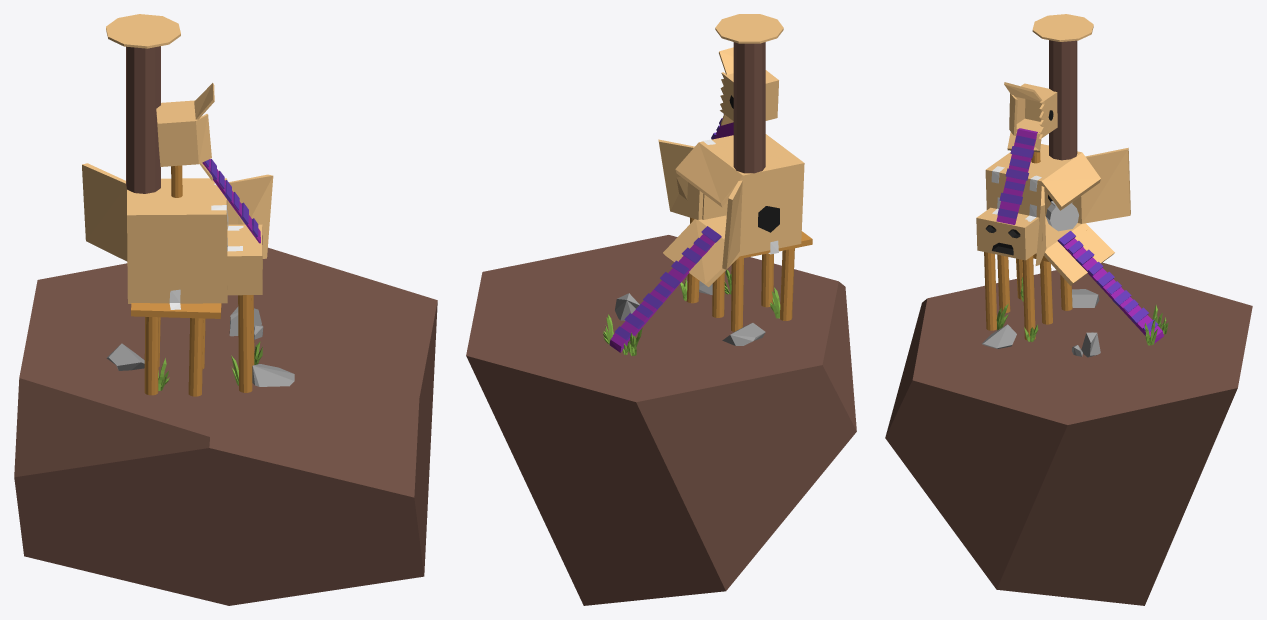
File: tower.fbx
3 views of the same model, side by side, from view 1: azimuth 30°, elevation 25°; view 2: azimuth 150°, elevation 25°; view 3: azimuth 270°, elevation 25° (orthographic). The views are drawn at different scales.
Parts seen in each view (by area): view 1: group_882659642, group_2029340610, group_1874450652, group_2044708126; view 2: group_882659642, group_2029340610, group_1874450652, group_2044708126; view 3: group_882659642, group_2029340610, group_1874450652, group_2044708126, group_1076640328.
Part boxes in pixels (bbox=[...]): group_882659642: bbox=[14, 247, 437, 605]; group_2029340610: bbox=[82, 83, 273, 396]; group_1874450652: bbox=[126, 46, 160, 193]; group_2044708126: bbox=[106, 14, 180, 48]; group_882659642: bbox=[466, 235, 856, 605]; group_2029340610: bbox=[609, 47, 812, 352]; group_1874450652: bbox=[733, 42, 765, 173]; group_2044708126: bbox=[715, 14, 783, 43]; group_882659642: bbox=[885, 262, 1252, 605]; group_2029340610: bbox=[976, 82, 1163, 343]; group_1874450652: bbox=[1049, 40, 1077, 160]; group_2044708126: bbox=[1032, 14, 1093, 41]; group_1076640328: bbox=[1046, 201, 1078, 231].
Bounding box in the file's own units: 94.99 × 139 × 88.14.
